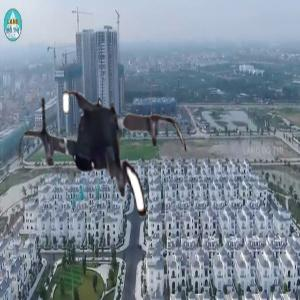drone: (12, 71, 192, 251)
